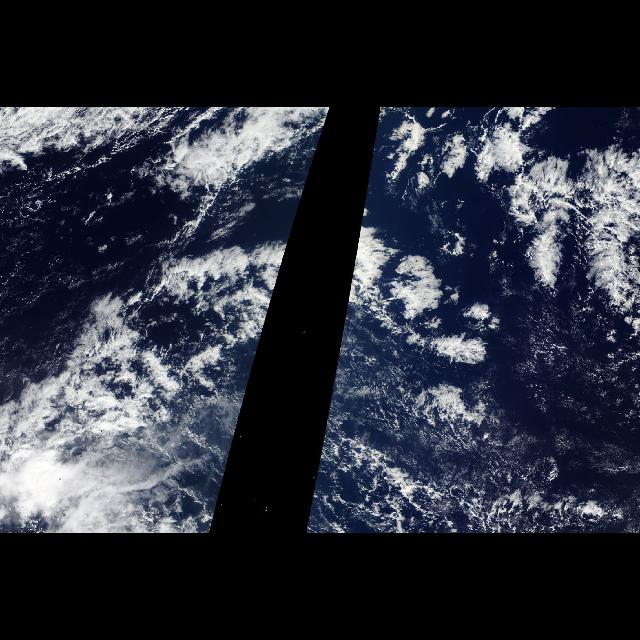Fish: (488, 121, 638, 315), (151, 249, 287, 369), (336, 249, 456, 369)
Gravel: (2, 205, 300, 405), (312, 411, 636, 534), (329, 205, 493, 405)
Sugar: (327, 338, 631, 468)
